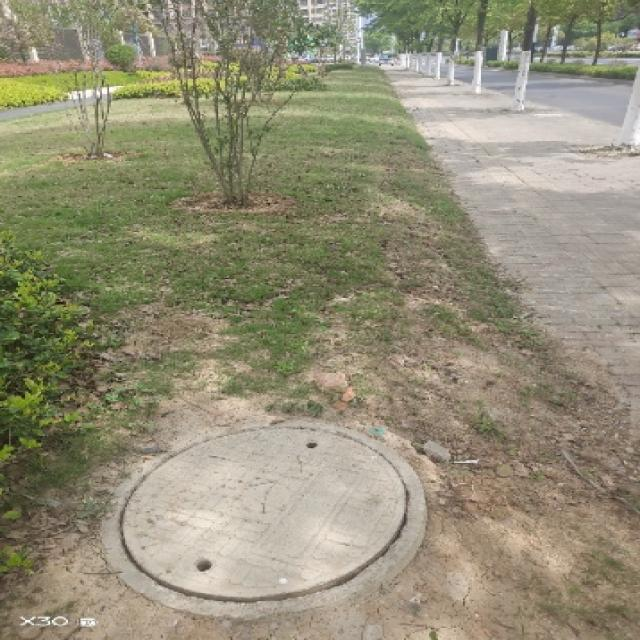Good: (106, 421, 437, 602)
